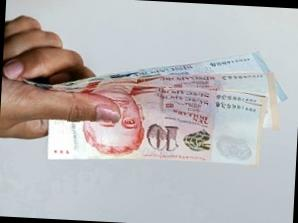10SingaporeDollar: (51, 81, 263, 164)
